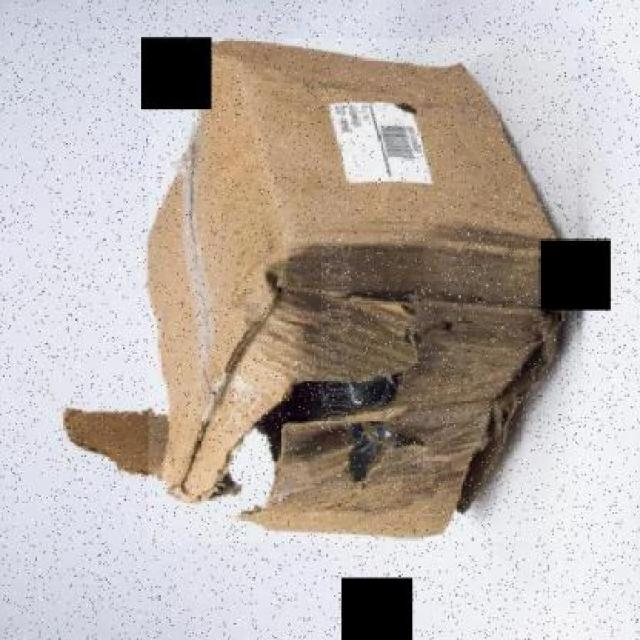box: (148, 39, 577, 543)
